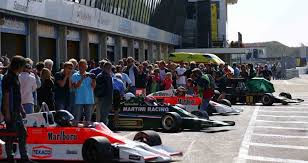f1_car: (3, 98, 189, 163), (88, 89, 239, 136)
